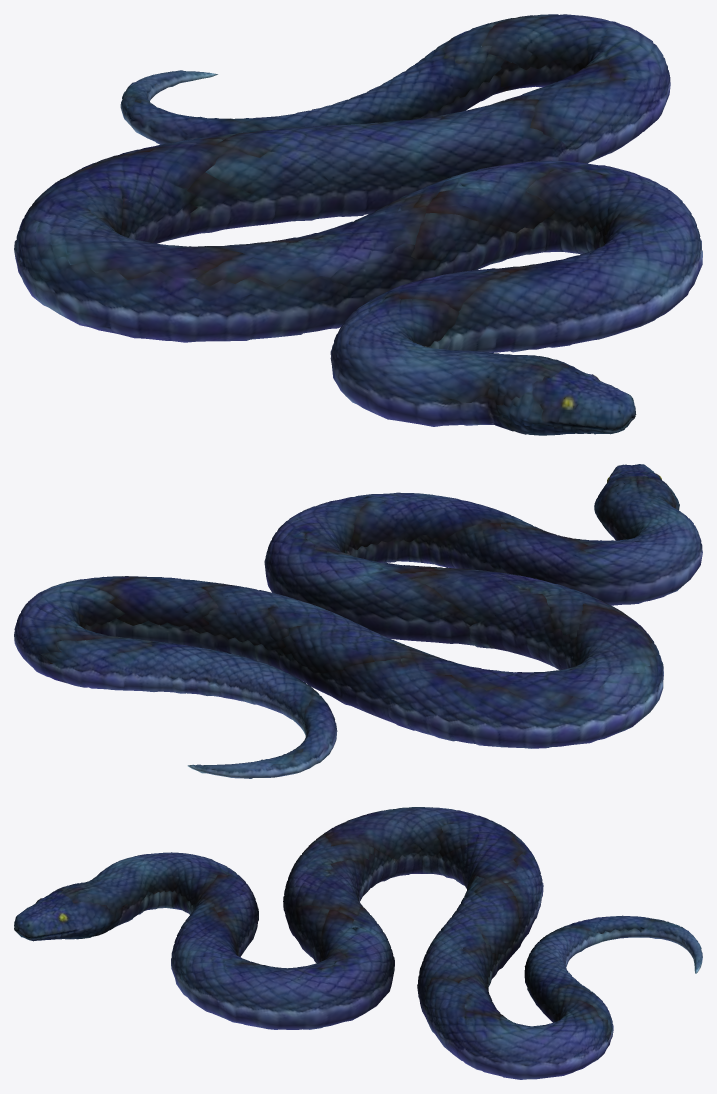
File: MZ4250 - Constrictor Snake_Blue.glb
3 renders of one model, top to bottom at view 1: azimuth 30°, elevation 25°; view 2: azimuth 150°, elevation 25°; view 3: azimuth 270°, elevation 25°, orthographic. The views are drawn at different scales.
Parts seen in each view (by area): view 1: ORGANIC BASE SPHERE.011; view 2: ORGANIC BASE SPHERE.011; view 3: ORGANIC BASE SPHERE.011.
Boxes of the visible parts, x1,y1,x2,y2 form: ORGANIC BASE SPHERE.011: [14, 14, 702, 435]; ORGANIC BASE SPHERE.011: [14, 464, 702, 778]; ORGANIC BASE SPHERE.011: [14, 807, 702, 1079].
Size of the model in its own units: 1.05 by 0.1166 by 1.28.
Materials: 1 (1 with a texture image).
